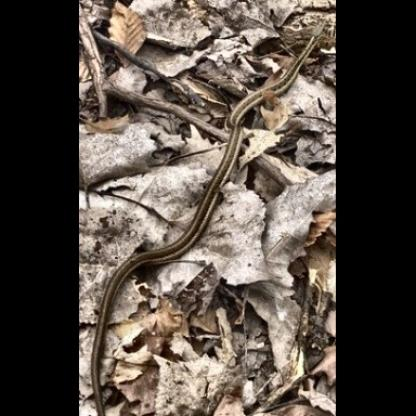Snake: (101, 19, 331, 394)
